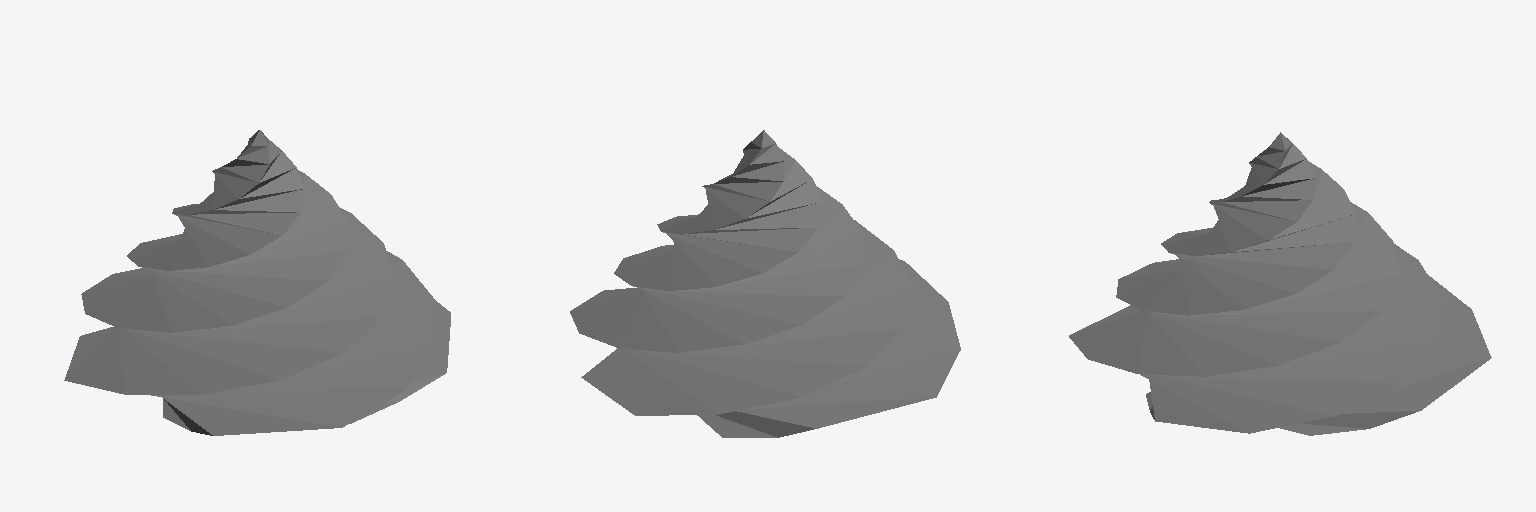
File: cream1.obj
3 views of the same model, side by side, from view 1: azimuth 30°, elevation 25°; view 2: azimuth 150°, elevation 25°; view 3: azimuth 270°, elevation 25° (orthographic).
Visible parts, largest first — view 1: pCube3; view 2: pCube3; view 3: pCube3.
Part boxes in pixels (x1,y1,x2,y2): pCube3: (64, 130, 450, 435); pCube3: (570, 130, 960, 437); pCube3: (1069, 132, 1491, 435).
Size of the model in its own units: 4.91 by 3.27 by 5.